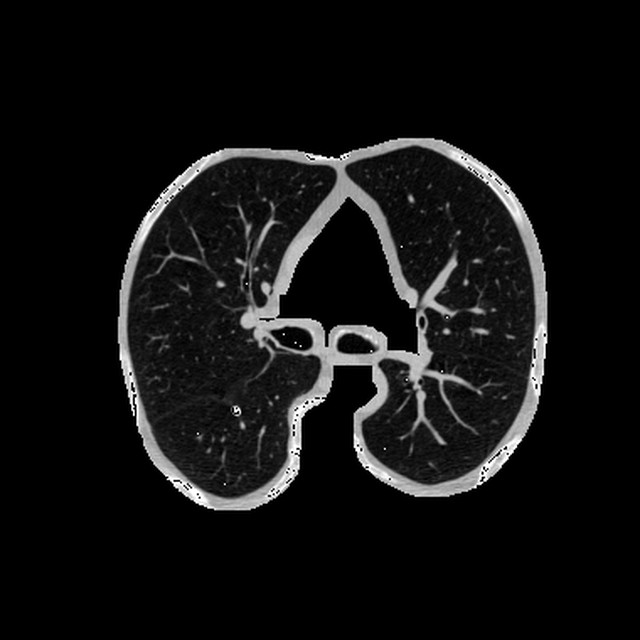PN: (231, 406, 241, 416)
